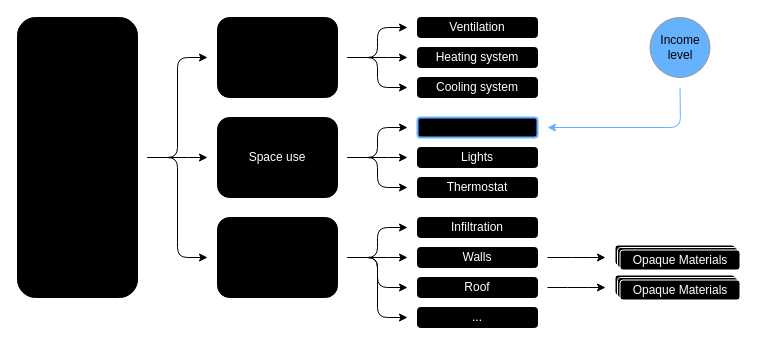
This 758x345 diagram has some shape labels left out. The shapes that lost their labels are listed below. From the top down, each one's centre as x and y in pixels, then its label:
At (x=277, y=57): "HVAC".
At (x=477, y=127): "Equipment".
At (x=77, y=157): "Building".
At (x=277, y=257): "Envelope".
